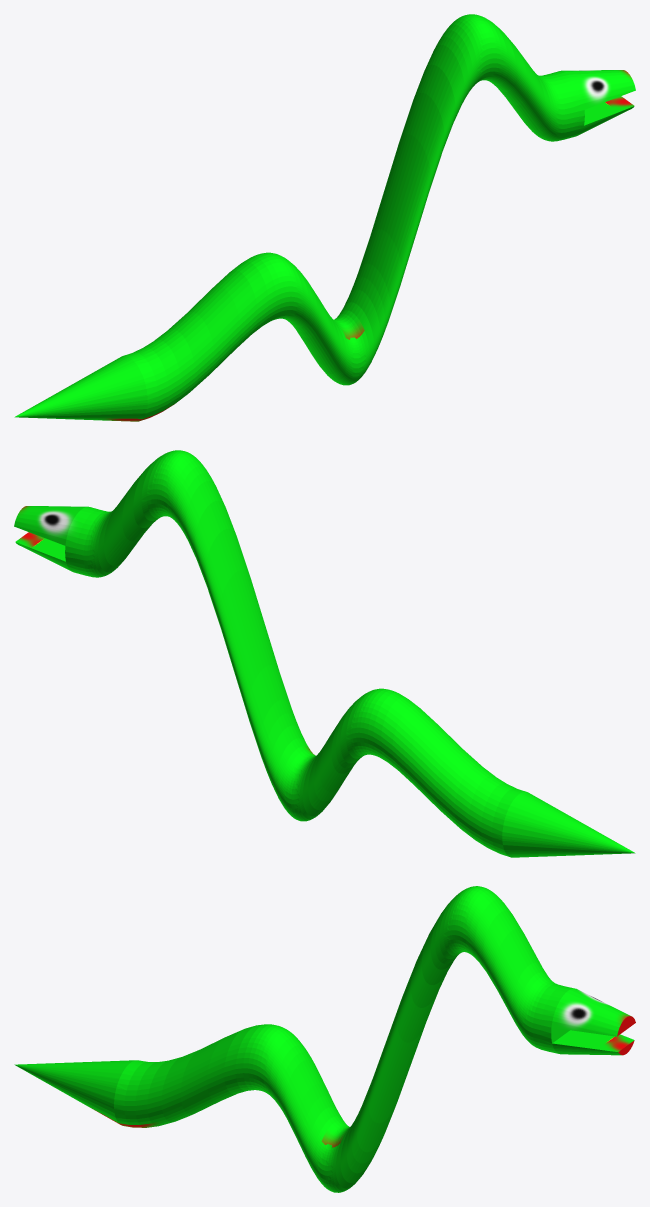
File: worm1.dae
The picture shows the model from 3 angles, top to bottom: view 1: azimuth 30°, elevation 25°; view 2: azimuth 150°, elevation 25°; view 3: azimuth 330°, elevation 25°; orthographic projection.
Visible parts, largest first — view 1: Worm1; view 2: Worm1; view 3: Worm1.
Part boxes in pixels (<box>): Worm1: <box>14,14,635,421</box>; Worm1: <box>14,450,635,857</box>; Worm1: <box>14,886,635,1192</box>.
Size of the model in its own units: 10.48 by 1 by 5.46.
Materials: 1 (1 with a texture image).
